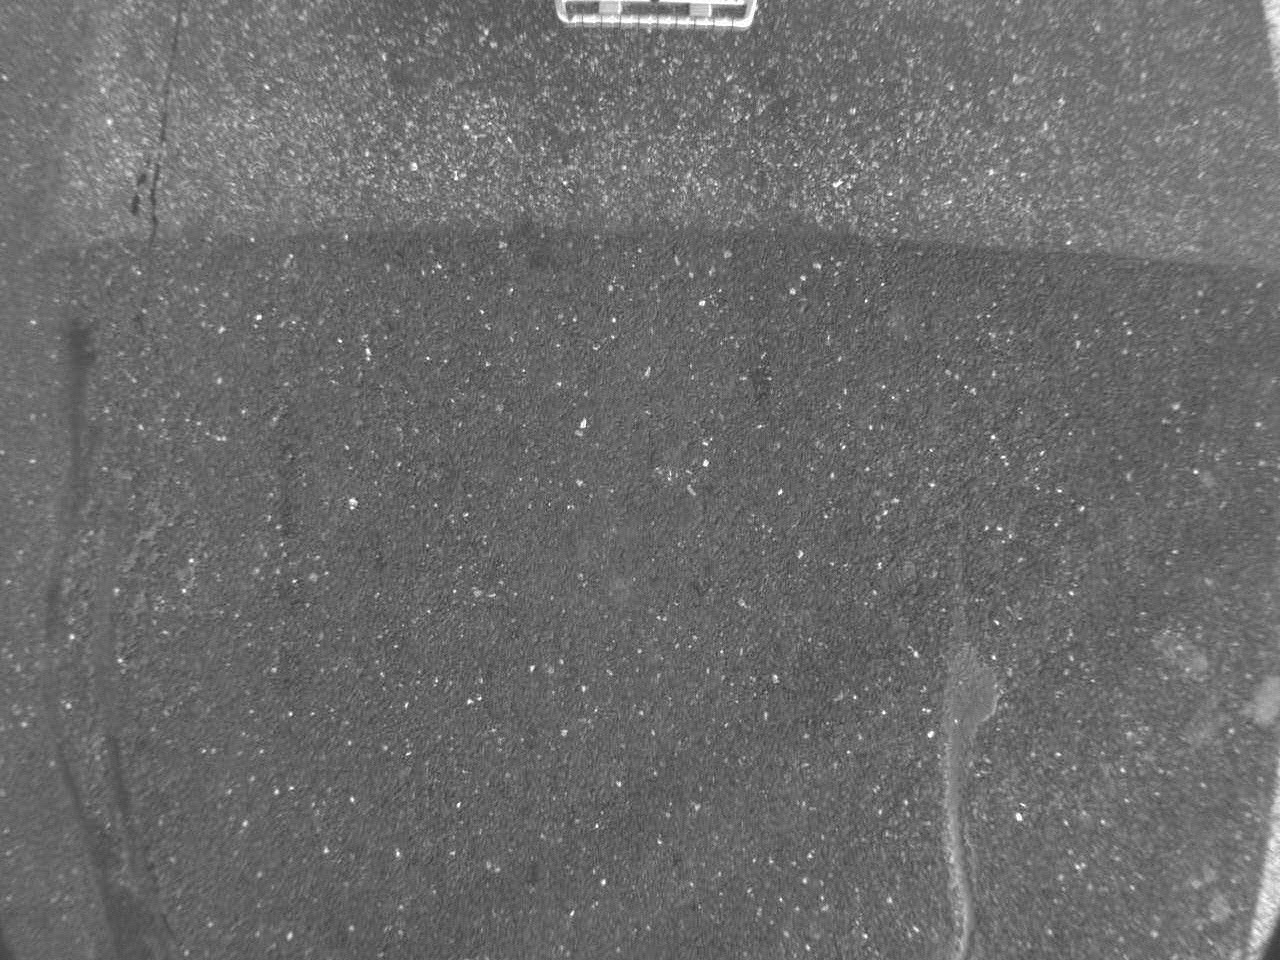sealed: (925, 635, 1006, 952)
